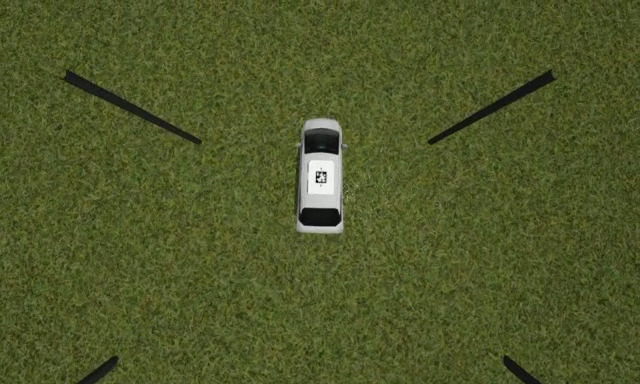Car: (298, 119, 345, 234)
Landing Pad: (308, 159, 334, 195)
